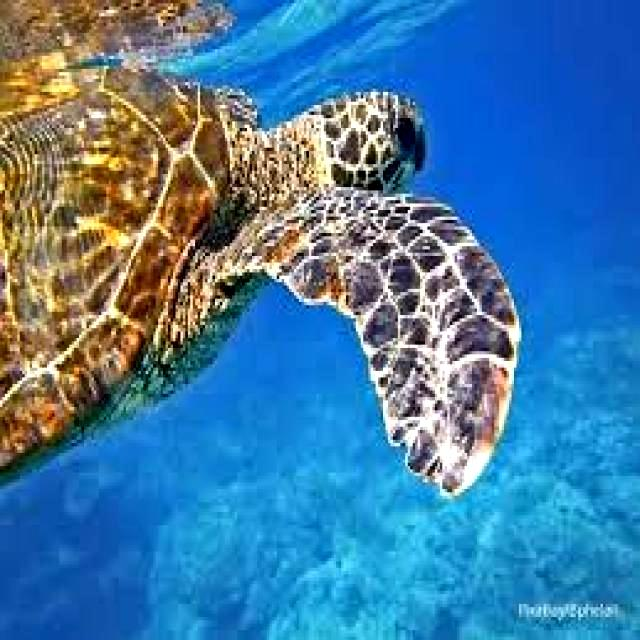Sea turtle: (0, 47, 527, 497)
